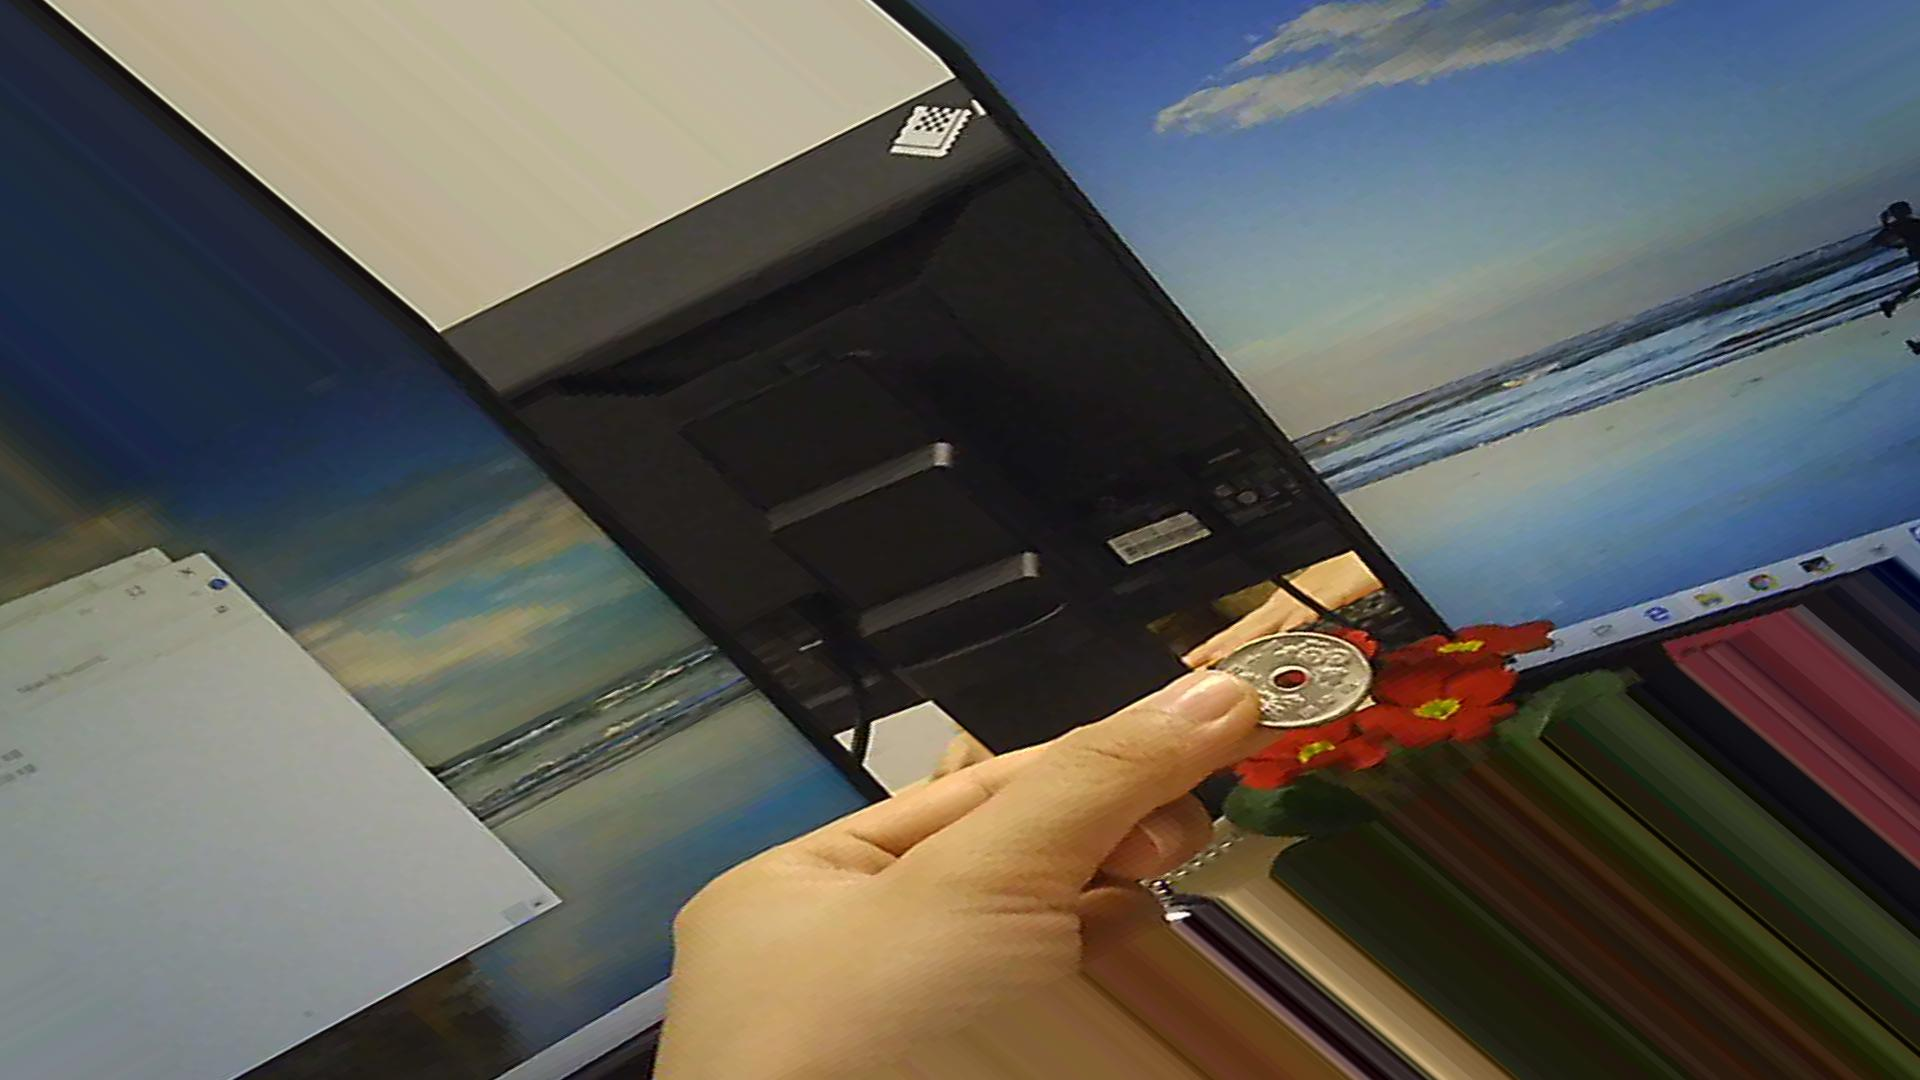50 Yen: (1200, 618, 1382, 742)
